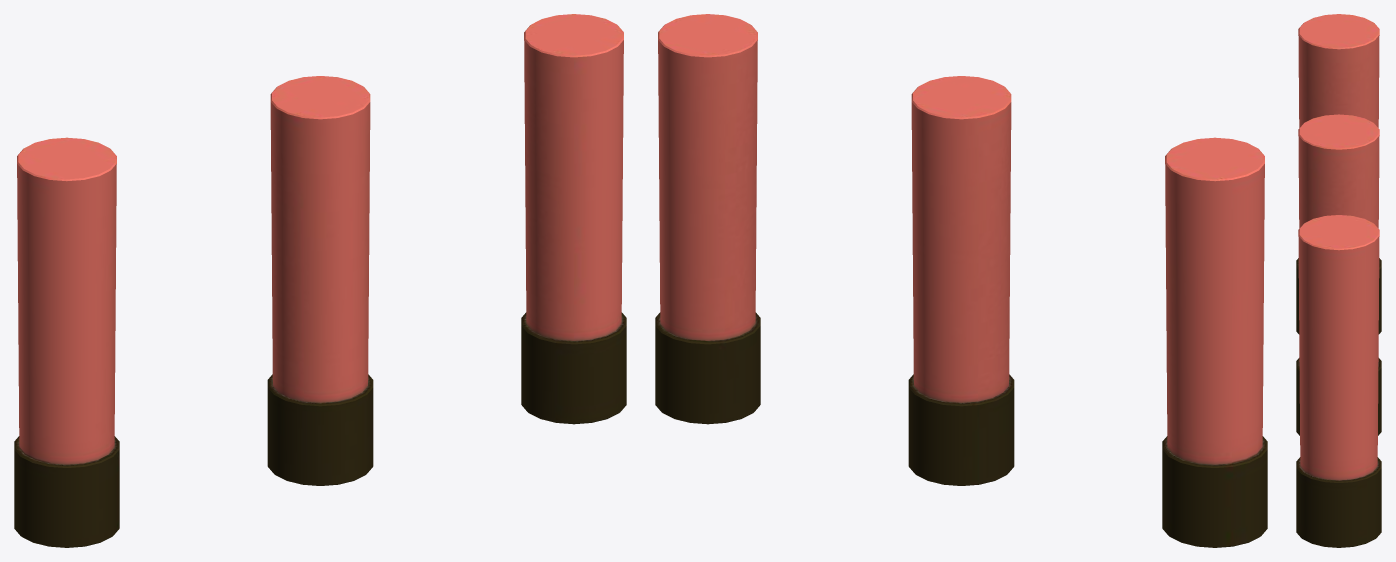
The model's file is IT_ammo_shell.glb.
The picture shows the model from 3 angles, left to right: view 1: azimuth 30°, elevation 25°; view 2: azimuth 150°, elevation 25°; view 3: azimuth 270°, elevation 25°; orthographic projection. The views are drawn at different scales.
Visible parts, largest first — view 1: IT_ammo_shell; view 2: IT_ammo_shell; view 3: IT_ammo_shell.
Part boxes in pixels (x1,y1,x2,y2): IT_ammo_shell: [14, 14, 626, 547]; IT_ammo_shell: [655, 14, 1267, 547]; IT_ammo_shell: [1296, 14, 1381, 547].
Bounding box in the file's own units: 0.615 × 0.36 × 0.0936.
Materials: 1 (1 with a texture image).
